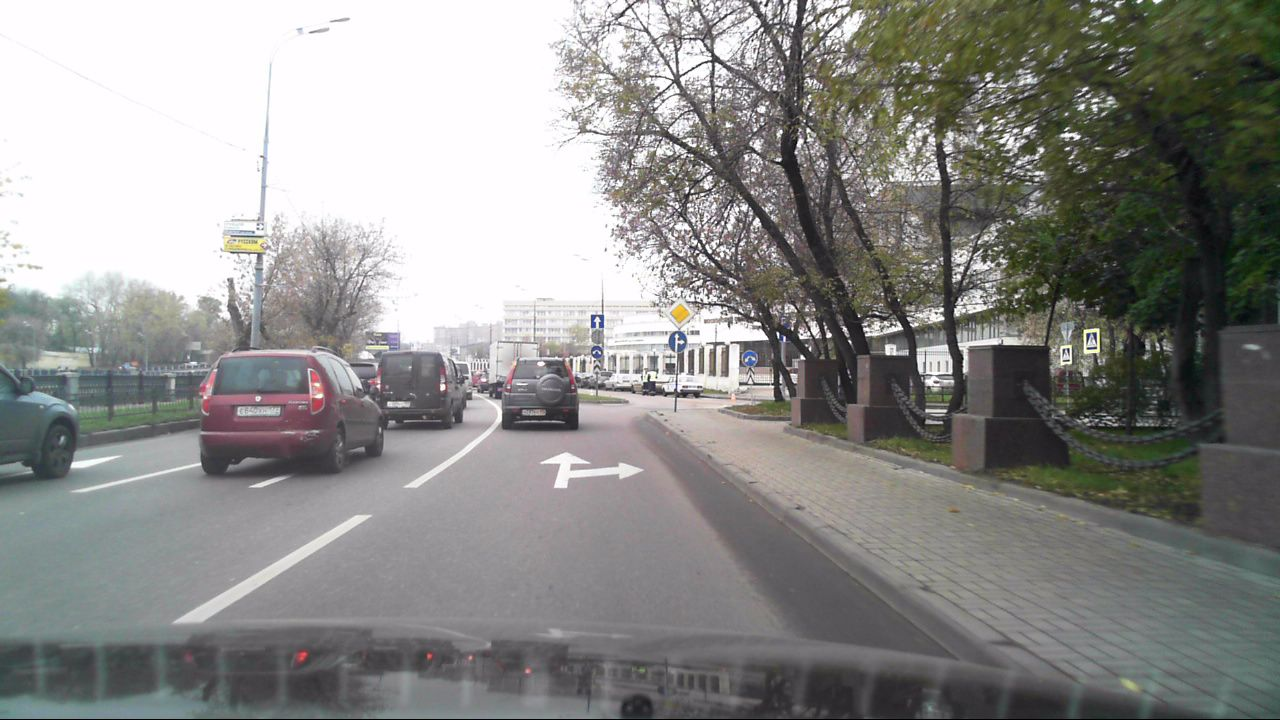main road: (665, 297, 694, 329)
